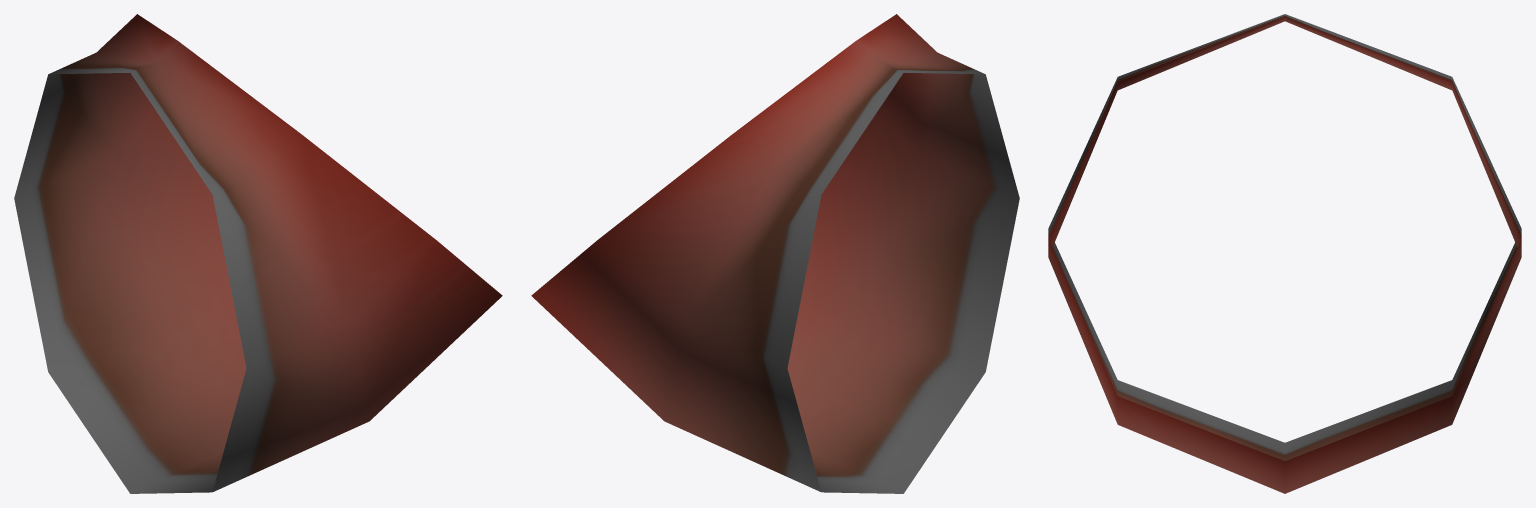
Rendered from pipe01_crn_8a_low.fbx.
The picture shows the model from 3 angles, left to right: view 1: azimuth 30°, elevation 25°; view 2: azimuth 150°, elevation 25°; view 3: azimuth 270°, elevation 25°; orthographic projection.
Parts seen in each view (by area): view 1: pipe01_crn_8a_low; view 2: pipe01_crn_8a_low; view 3: pipe01_crn_8a_low.
Part boxes in pixels (x1,y1,x2,y2): pipe01_crn_8a_low: (14,14,502,493); pipe01_crn_8a_low: (531,14,1019,493); pipe01_crn_8a_low: (1048,14,1521,493).
Size of the model in its own units: 9.9 by 12.59 by 12.
